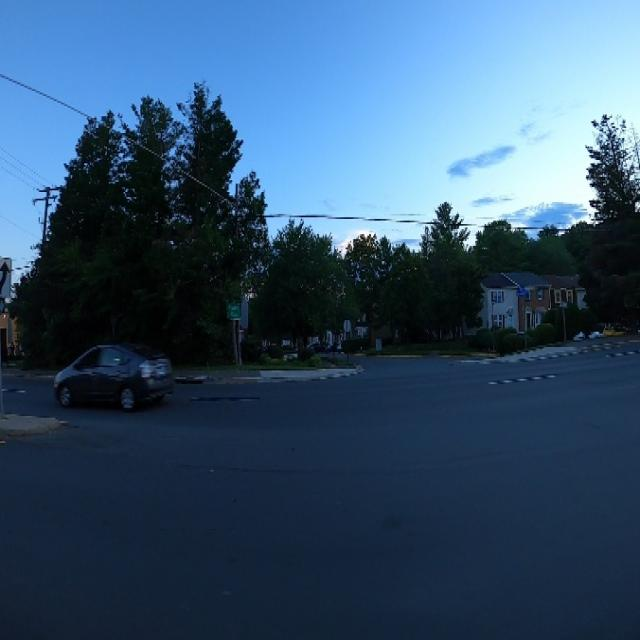cars: (43, 327, 175, 410)
